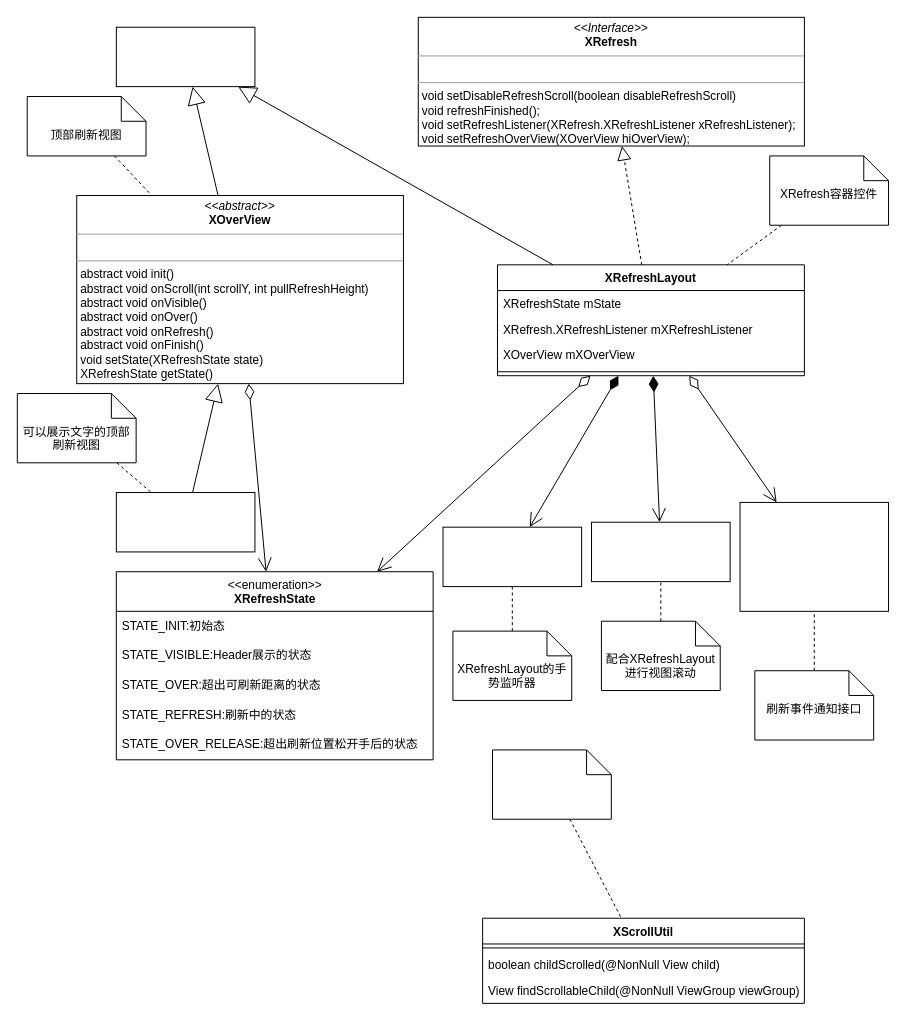
This 906x1024 diagram has some shape labels left out. Each missing label, with the centre of its shape:
<<Interface>> XRefreshListener void onRefresh(); boolean enableRefresh();: the point at 814,556
AutoScroller: the point at 660,551
FrameLayout: the point at 185,56
XGestureDetector: the point at 512,556
XRefreshLayout的辅助工具类: the point at 551,784
XTextOverView: the point at 185,522
